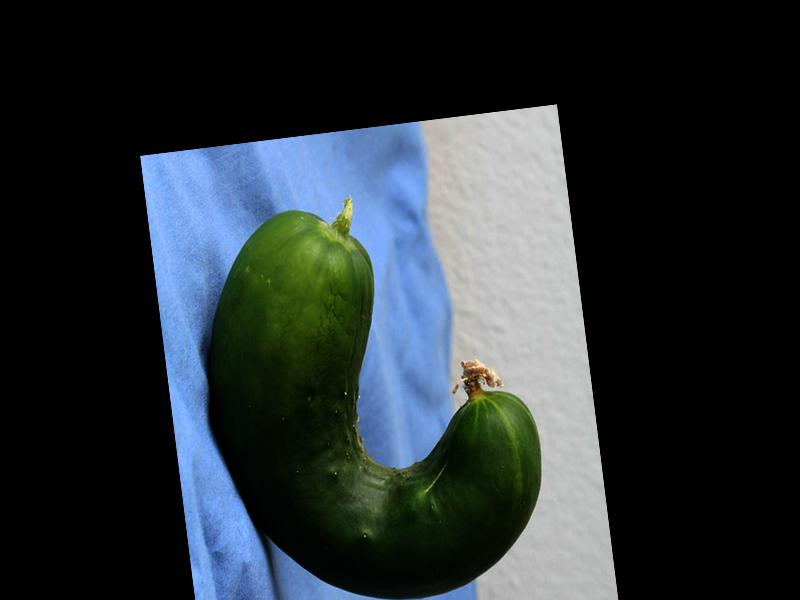Cucumber: (188, 183, 557, 600)
